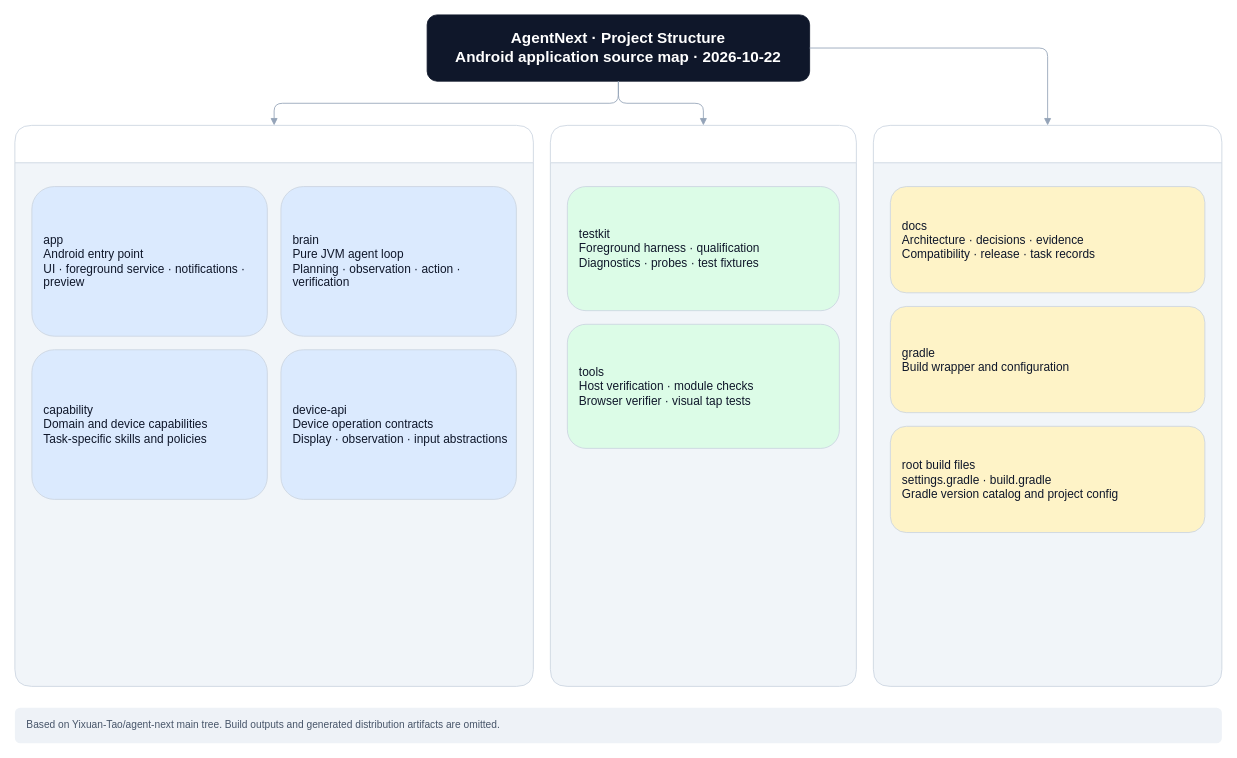
Image size: 1237x758. Some labels were removed from this diagram. Each missing label, with the box of its shape:
PROJECT MATERIALS: (873, 125, 1222, 686)
QUALITY & TOOLING: (550, 125, 856, 686)
RUNTIME MODULES: (14, 125, 533, 686)
